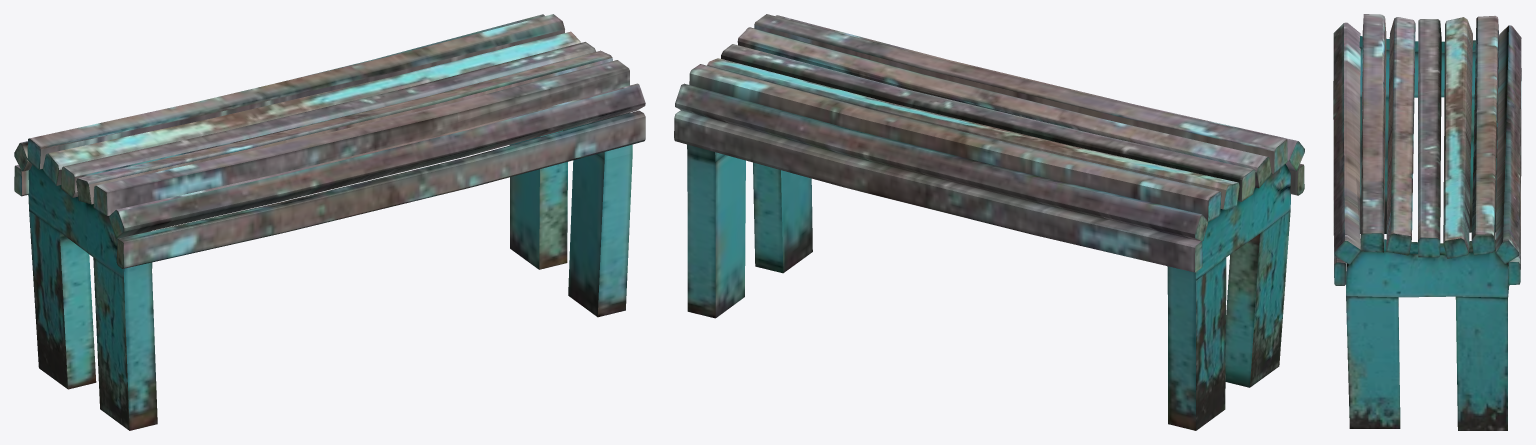
Rendered from cove-bench.lod0.glb.
The picture shows the model from 3 angles, left to right: view 1: azimuth 30°, elevation 25°; view 2: azimuth 150°, elevation 25°; view 3: azimuth 270°, elevation 25°; orthographic projection. The views are drawn at different scales.
Visible parts, largest first — view 1: Bench_wooden_01_Bench_wooden_01_0; view 2: Bench_wooden_01_Bench_wooden_01_0; view 3: Bench_wooden_01_Bench_wooden_01_0.
Boxes of the visible parts, x1=… form: Bench_wooden_01_Bench_wooden_01_0: x1=14, y1=14, x2=645, y2=430; Bench_wooden_01_Bench_wooden_01_0: x1=674, y1=14, x2=1304, y2=430; Bench_wooden_01_Bench_wooden_01_0: x1=1333, y1=14, x2=1521, y2=430.
Bounding box in the file's own units: 1.6 × 0.6936 × 0.585.
Materials: 1 (1 with a texture image).
